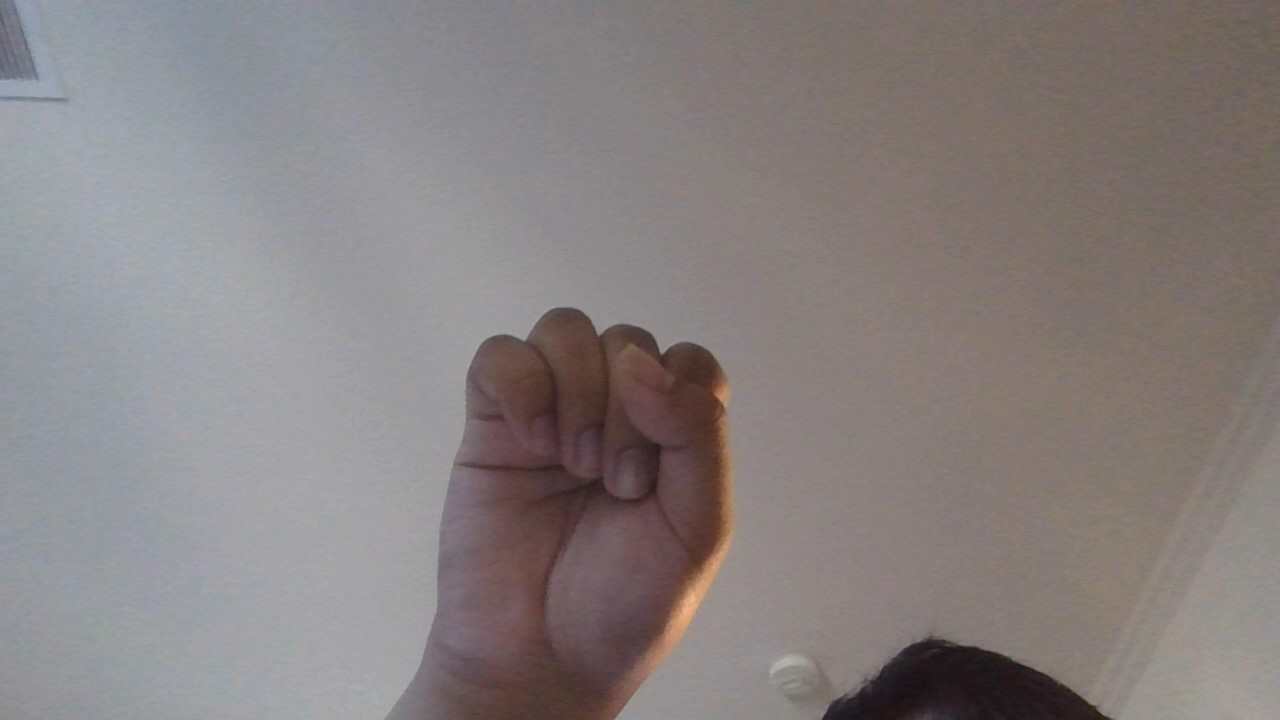s: (400, 300, 757, 720)
